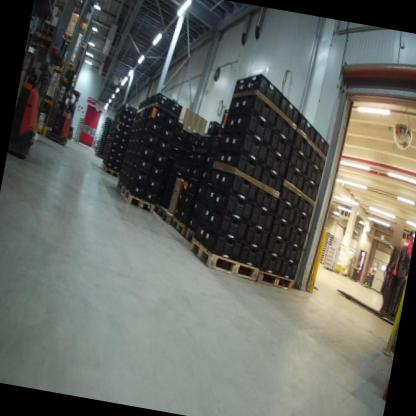forklift: (34, 55, 86, 153)
pallet: (186, 237, 263, 285), (254, 266, 296, 292), (118, 185, 156, 211), (151, 203, 176, 229), (183, 224, 201, 246), (169, 216, 187, 237), (98, 164, 120, 178), (116, 180, 123, 191)
pallet_truck: (5, 40, 61, 176), (334, 229, 411, 324)
